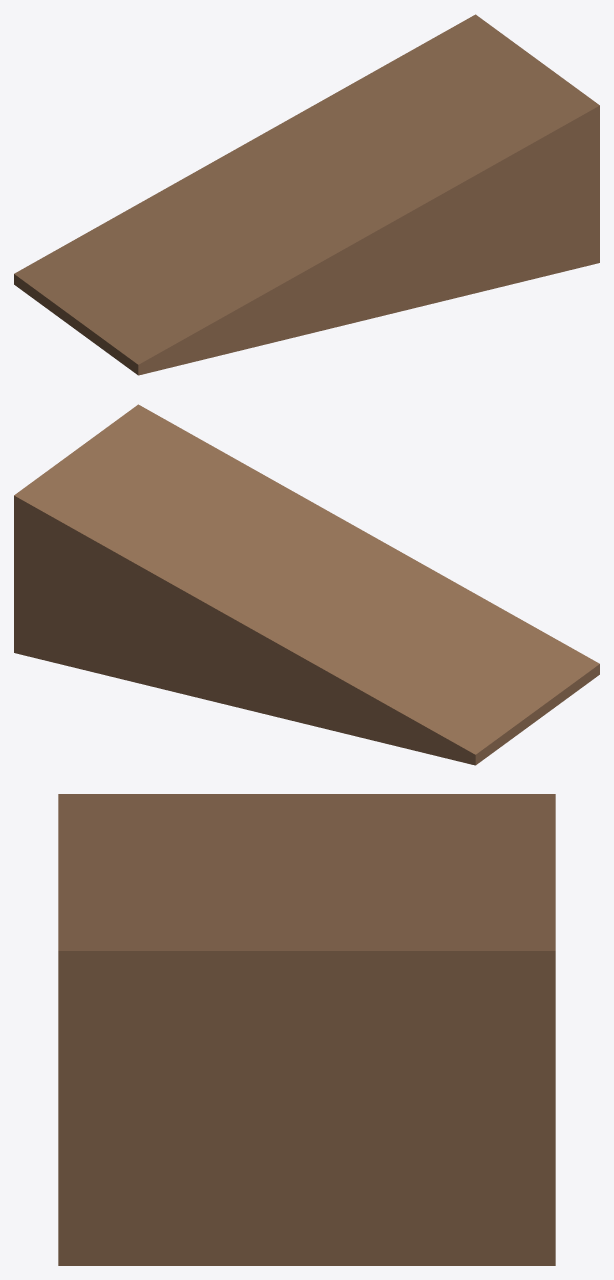
File: Inclined plane-01.FBX
3 renders of one model, top to bottom at view 1: azimuth 30°, elevation 25°; view 2: azimuth 150°, elevation 25°; view 3: azimuth 270°, elevation 25°, orthographic. The views are drawn at different scales.
Visible parts, largest first — view 1: Box001; view 2: Box001; view 3: Box001.
Boxes of the visible parts, x1,y1,x2,y2 form: Box001: (14, 14, 599, 375); Box001: (14, 404, 599, 765); Box001: (58, 794, 555, 1265).
Size of the model in its own units: 645 by 210 by 301.
